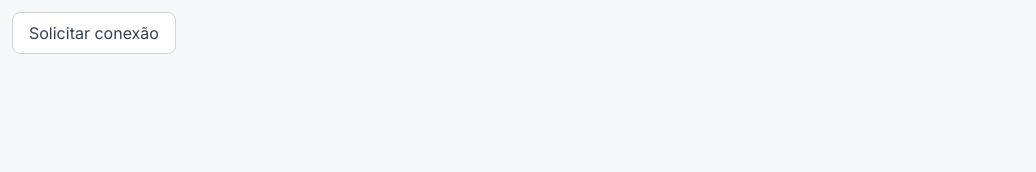
Scenario: reconcilia conflito
Click the button "Solicitar conexão" at point(94, 33), box [12,12,176,54]
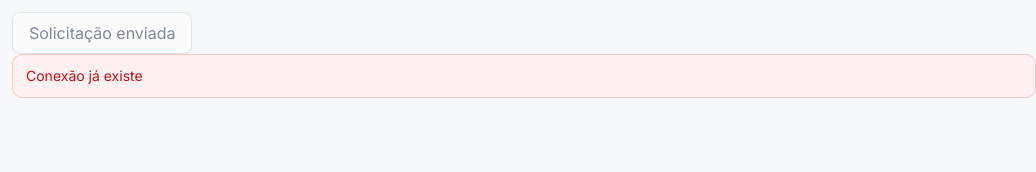
Expected: the message reads "Conexão já existe", [26,67,143,84]
